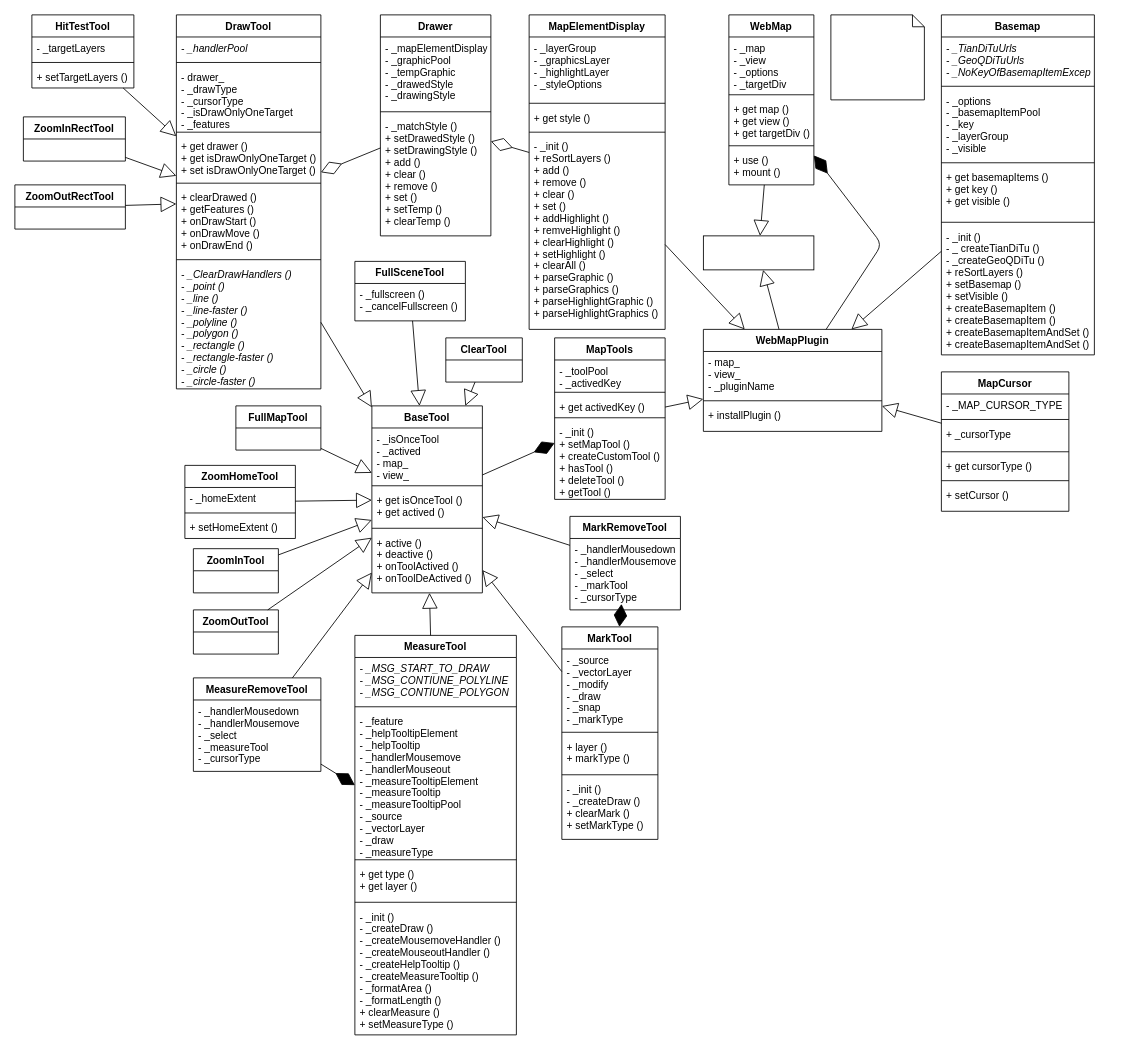
Some shapes in this 1121 by 1052 pixel diagram are drawn without their labels. The centre of each missing label's shape, as x and y in pixels:
@xizher/observer: (x=758, y=252)
图例： - _私有成员 - 保护成员_ + 公有成员 - _私有静态成员 + 公有静态成员: (x=877, y=57)
